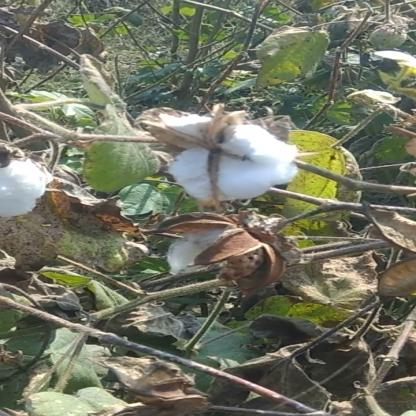cotton_ready: (96, 100, 310, 214)
